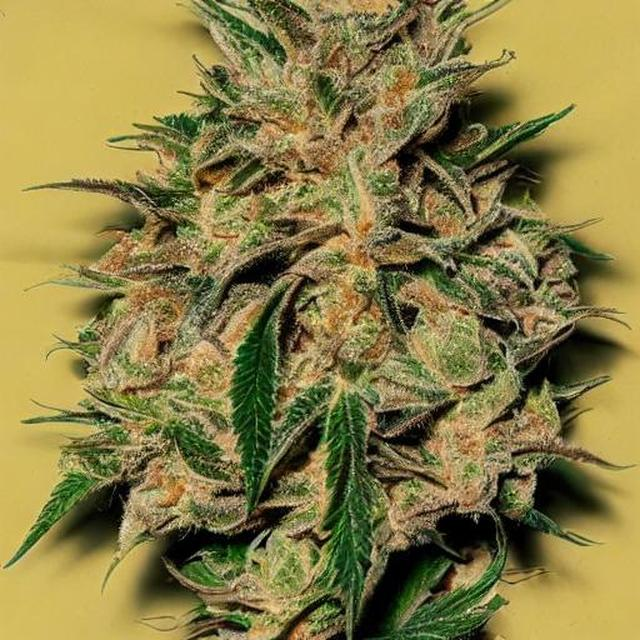Marijuana Joint: (65, 1, 592, 606)
